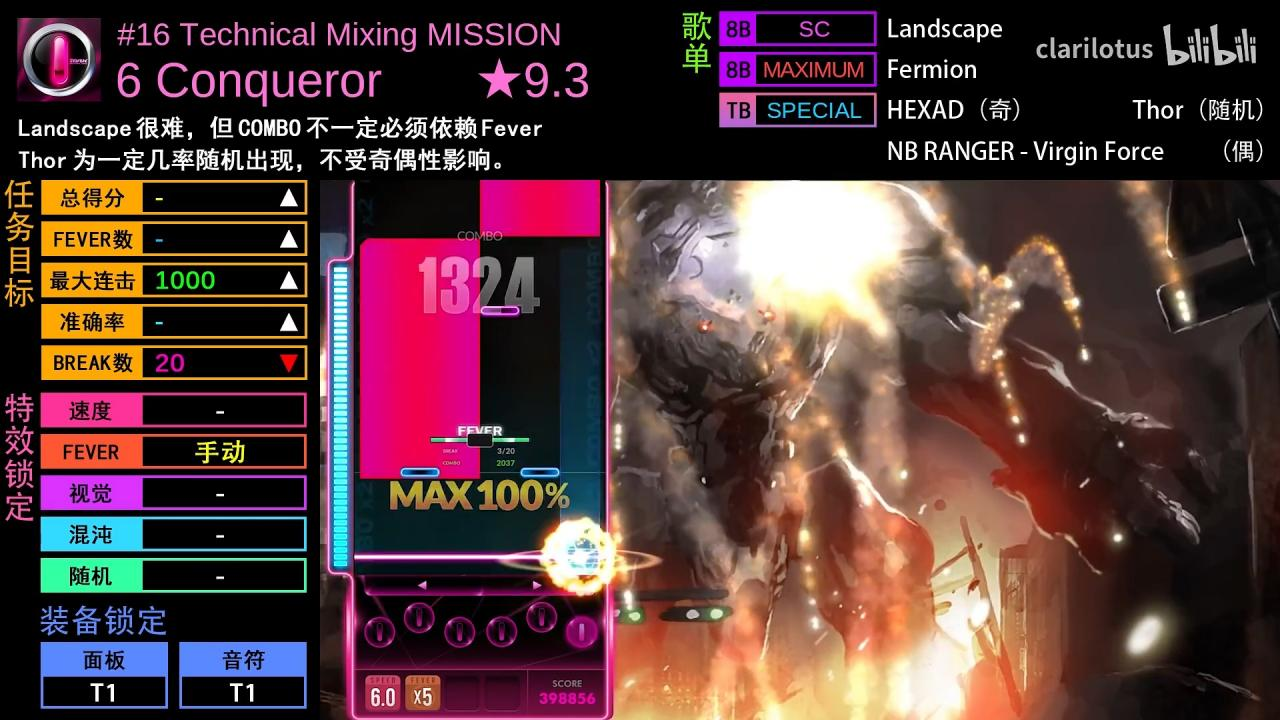note: (400, 467, 441, 478), (480, 305, 520, 316), (520, 467, 560, 477)
xend: (360, 239, 479, 252)
xstart: (360, 466, 480, 479), (480, 224, 600, 235)
